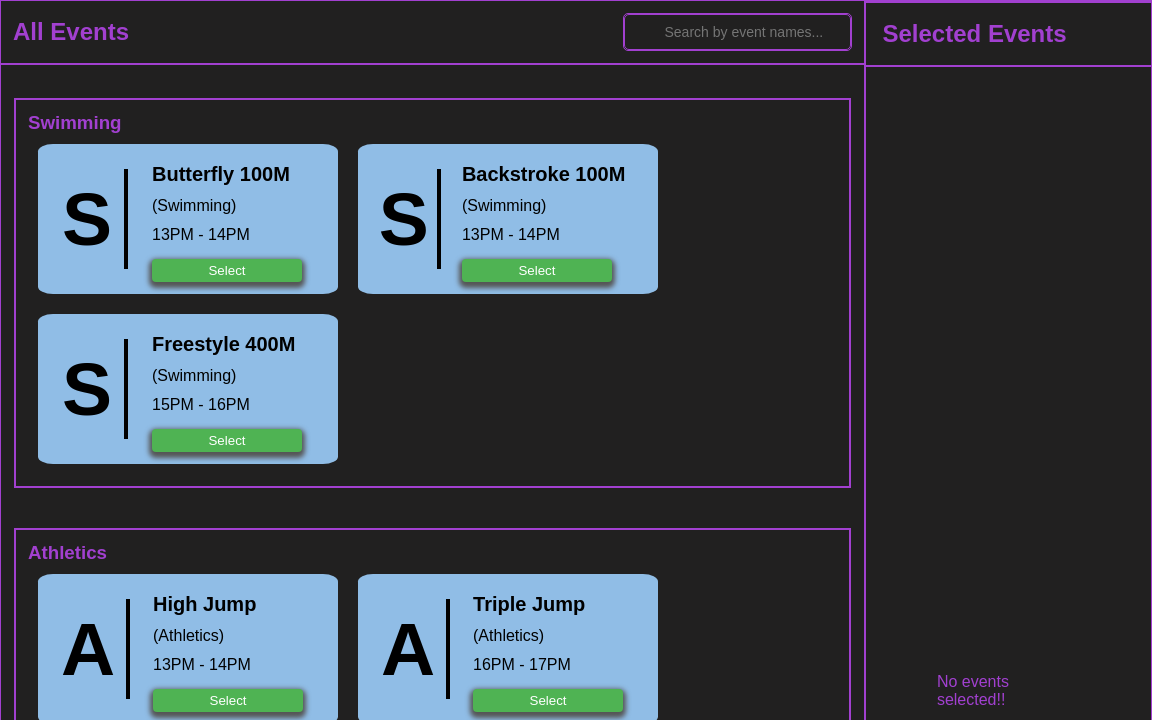
it: Sports Events Dashboard › Should be able to select and deselect events without any issues
Click the button with test id "eventButton-1". click: (227,271)
box: [152,259,302,282]
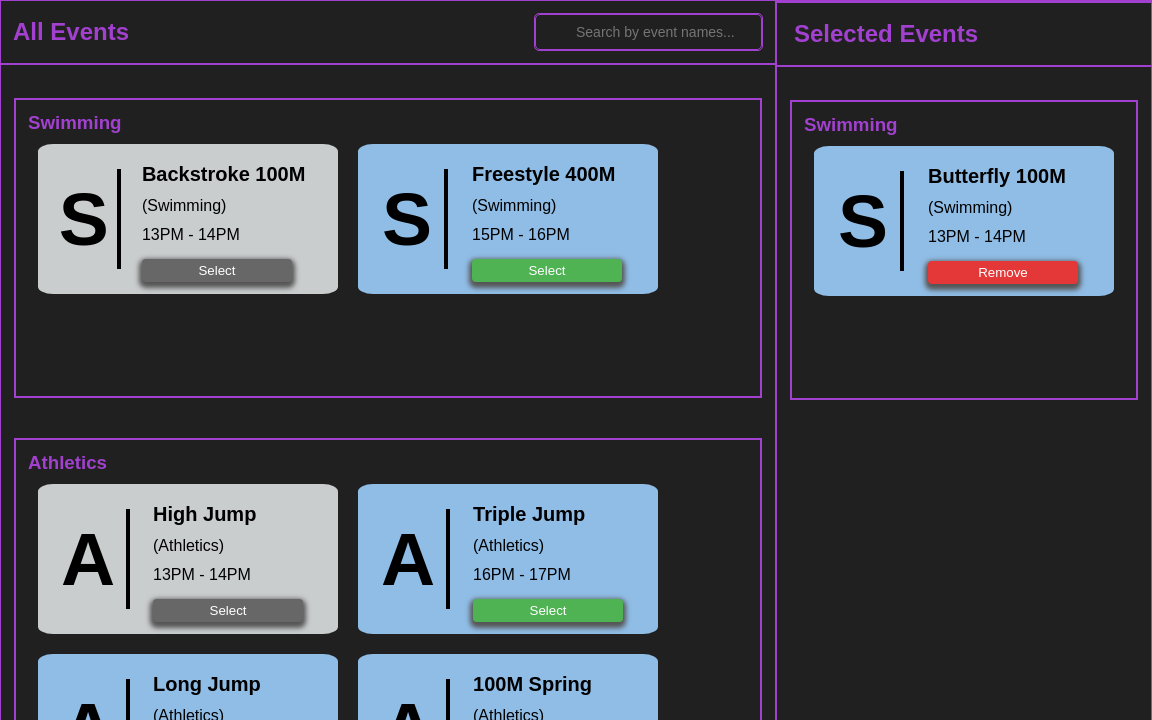
Expected: the number of elements with class "disabled" is 2, [38,144,338,294]; [38,484,338,634]
Result: the button with test id "eventButton-1" reads "Remove"
remove selected event back to where it was
Click the button with test id "eventButton-1". click: (1003,273)
box: [928,261,1078,284]
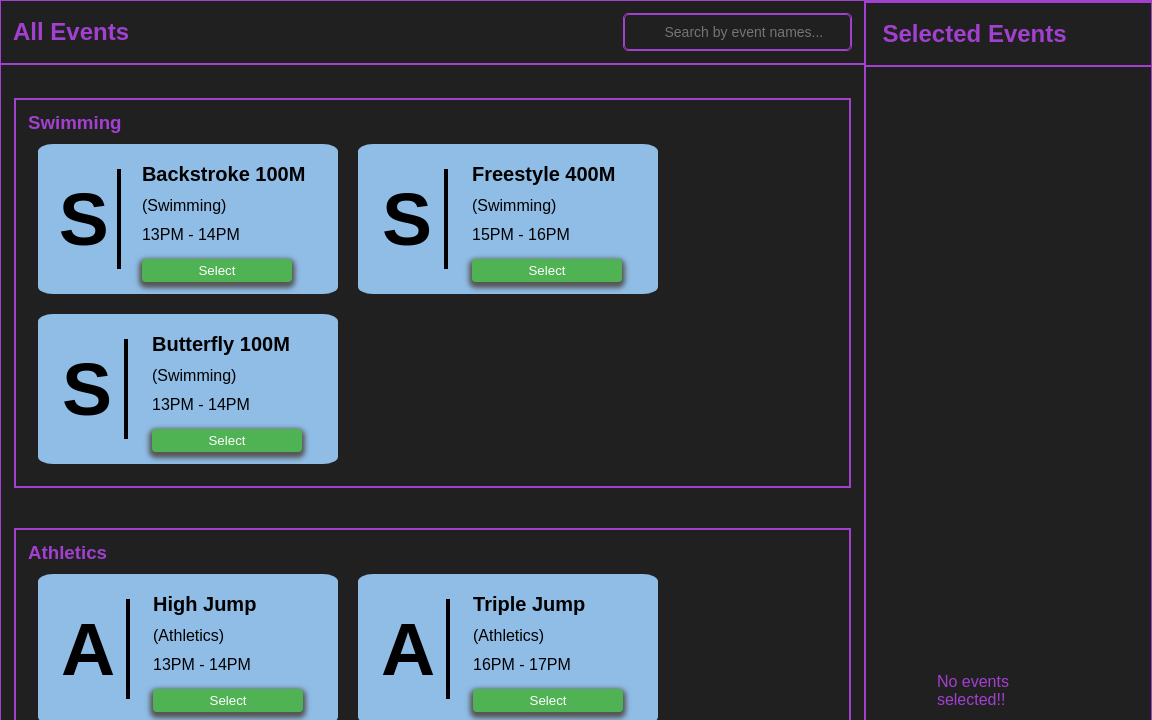
Result: the button with test id "eventButton-1" reads "Select" at [152,429,302,452]
Result: the text "No events selected!!" is shown at [937,673,1009,708]
